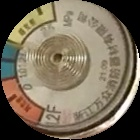green: (1, 42, 21, 78)
red: (1, 80, 47, 124)
yellow: (9, 2, 58, 46)
